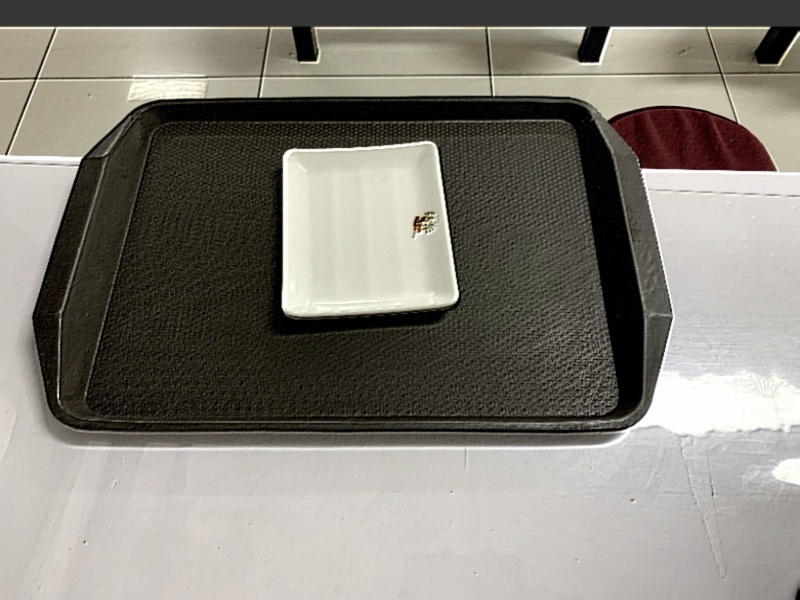dish4: (274, 136, 468, 327)
